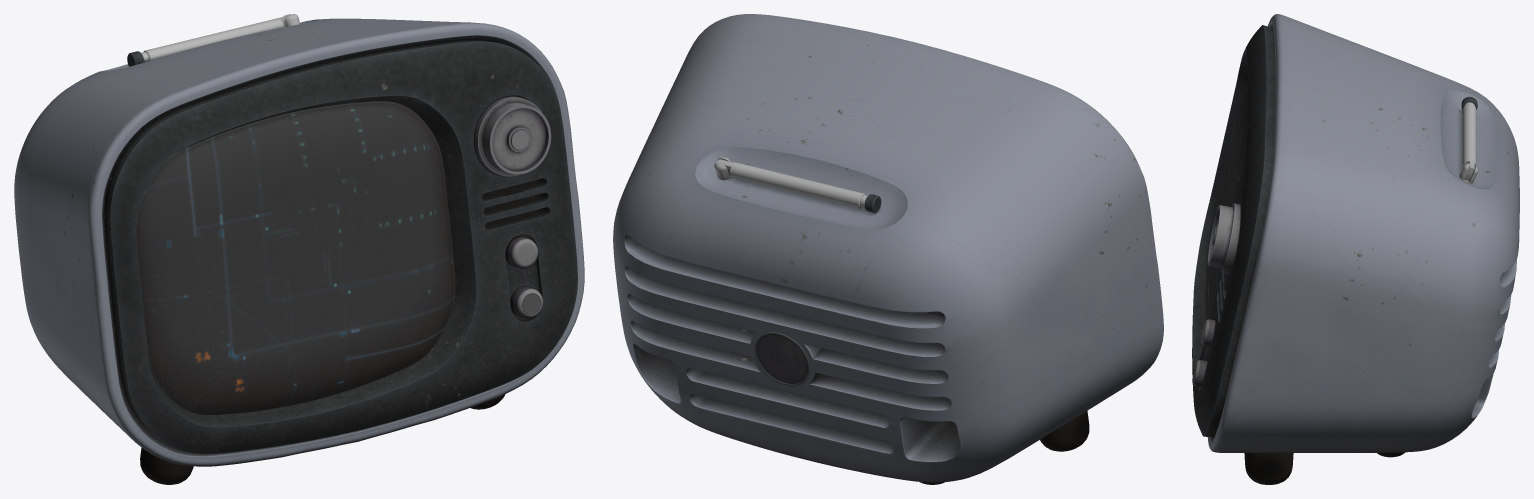
Rendered from monitor_vi.glb.
The picture shows the model from 3 angles, left to right: view 1: azimuth 30°, elevation 25°; view 2: azimuth 150°, elevation 25°; view 3: azimuth 270°, elevation 25°; orthographic projection. The views are drawn at different scales.
Parts seen in each view (by area): view 1: tv.003_low, tv.014_low, tv.012_low, tv_low, tv.006_low, tv.007_low, tv.004_low, tv.001_low; view 2: tv.012_low, tv.006_low, tv.011_low, tv.007_low; view 3: tv.012_low, tv.014_low, tv.003_low, tv_low, tv.007_low, tv.006_low.
Boxes of the visible parts, box(x1,y1,x2,y2) form: tv.003_low: box(136, 101, 455, 414); tv.014_low: box(104, 40, 577, 454); tv.012_low: box(14, 18, 584, 466); tv_low: box(474, 95, 551, 176); tv.006_low: box(143, 16, 286, 60); tv.007_low: box(140, 394, 504, 484); tv.004_low: box(505, 236, 537, 268); tv.001_low: box(510, 286, 543, 318); tv.012_low: box(613, 14, 1163, 482); tv.006_low: box(717, 159, 865, 208); tv.011_low: box(754, 332, 809, 385); tv.007_low: box(1040, 410, 1089, 451); tv.012_low: box(1207, 14, 1519, 452); tv.014_low: box(1192, 25, 1275, 437); tv.003_low: box(1205, 80, 1247, 320); tv_low: box(1207, 203, 1240, 273); tv.007_low: box(1244, 452, 1293, 484); tv.006_low: box(1462, 104, 1476, 179).
Size of what is drawn, in the model's own units: 0.3246 by 0.2517 by 0.2185.
1 material, 1 textured.
